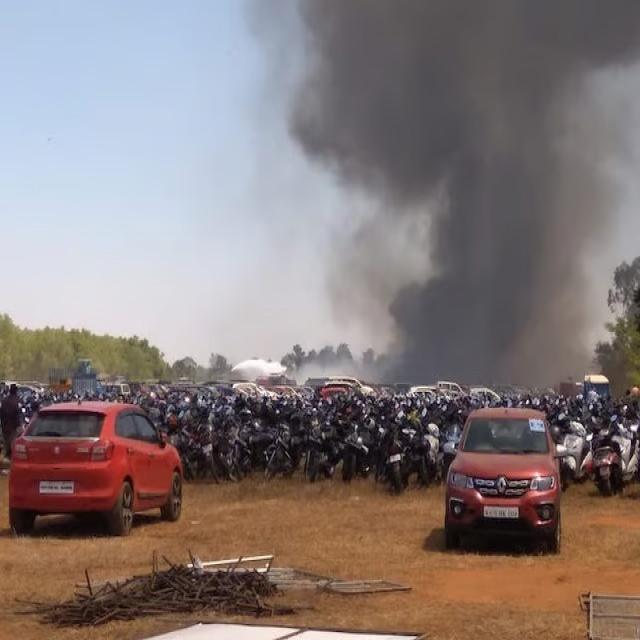plate: (482, 502, 522, 522), (36, 478, 80, 496)
